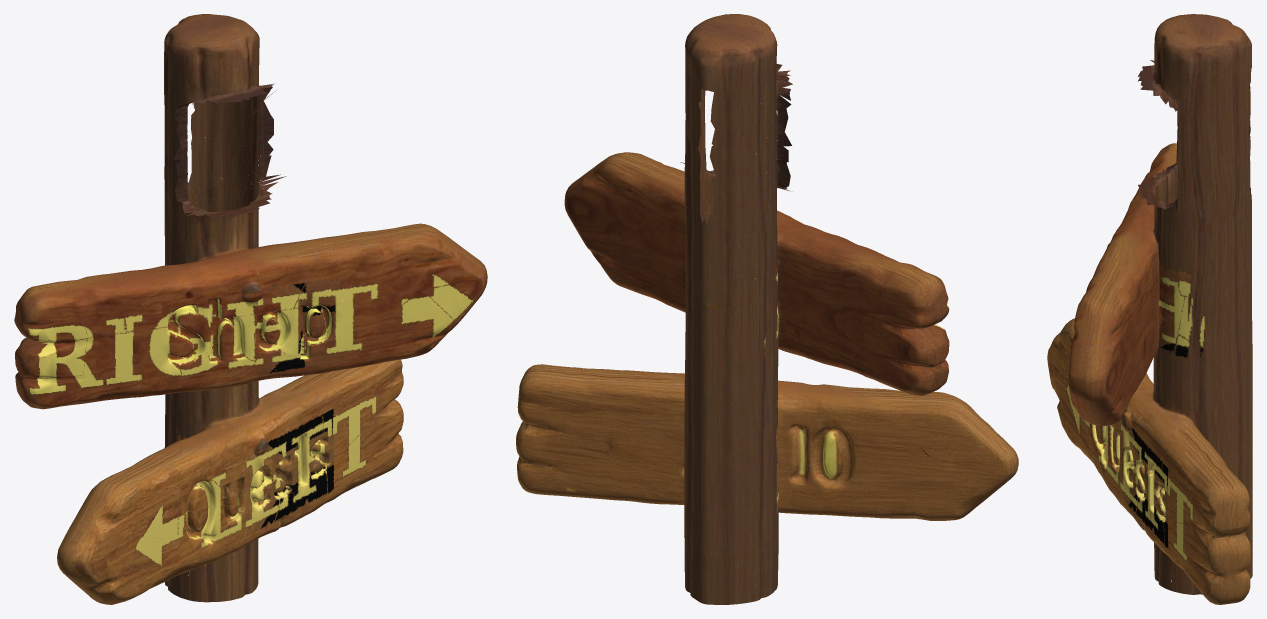
Rendered from forksign.glb.
3 views of the same model, side by side, from view 1: azimuth 30°, elevation 25°; view 2: azimuth 150°, elevation 25°; view 3: azimuth 270°, elevation 25° (orthographic).
Parts seen in each view (by area): view 1: crossway; view 2: crossway; view 3: crossway.
Part boxes in pixels (<box>): crossway: <box>14,14,487,604</box>; crossway: <box>516,14,1018,604</box>; crossway: <box>1047,14,1252,604</box>.
Size of the model in its own units: 0.854 by 1.04 by 0.3513.
Materials: 1 (1 with a texture image).
